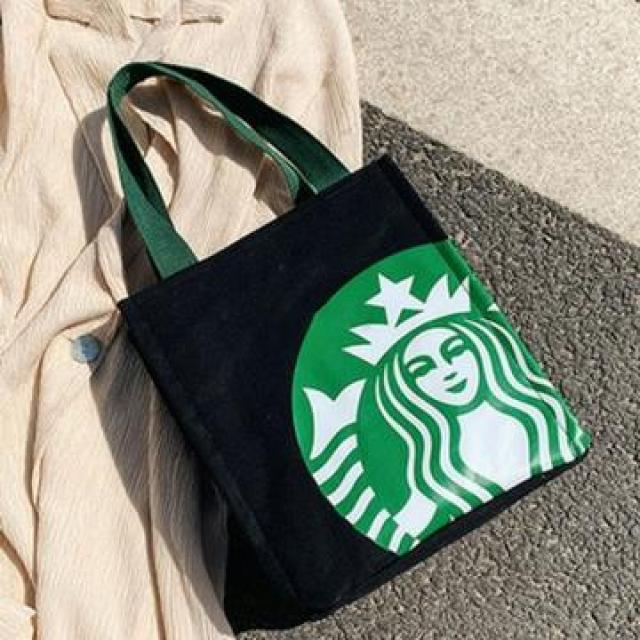ecobag: (78, 40, 600, 627)
